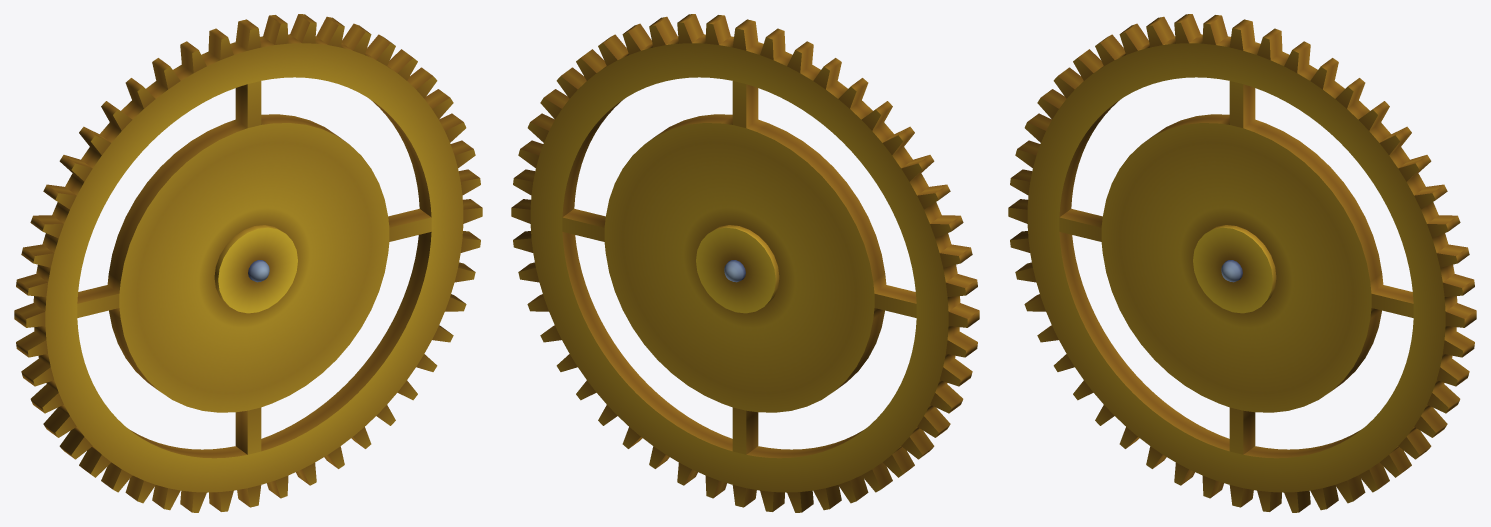
Rendered from Gears.fbx_Gear3.fbx.
3 views of the same model, side by side, from view 1: azimuth 30°, elevation 25°; view 2: azimuth 150°, elevation 25°; view 3: azimuth 330°, elevation 25° (orthographic).
Parts seen in each view (by area): view 1: Gear3; view 2: Gear3; view 3: Gear3.
Part boxes in pixels (x1,y1,x2,y2): Gear3: (14,14,482,512); Gear3: (511,14,979,512); Gear3: (1008,14,1476,512).
Size of the model in its own units: 44.6 by 44.6 by 5.26.
